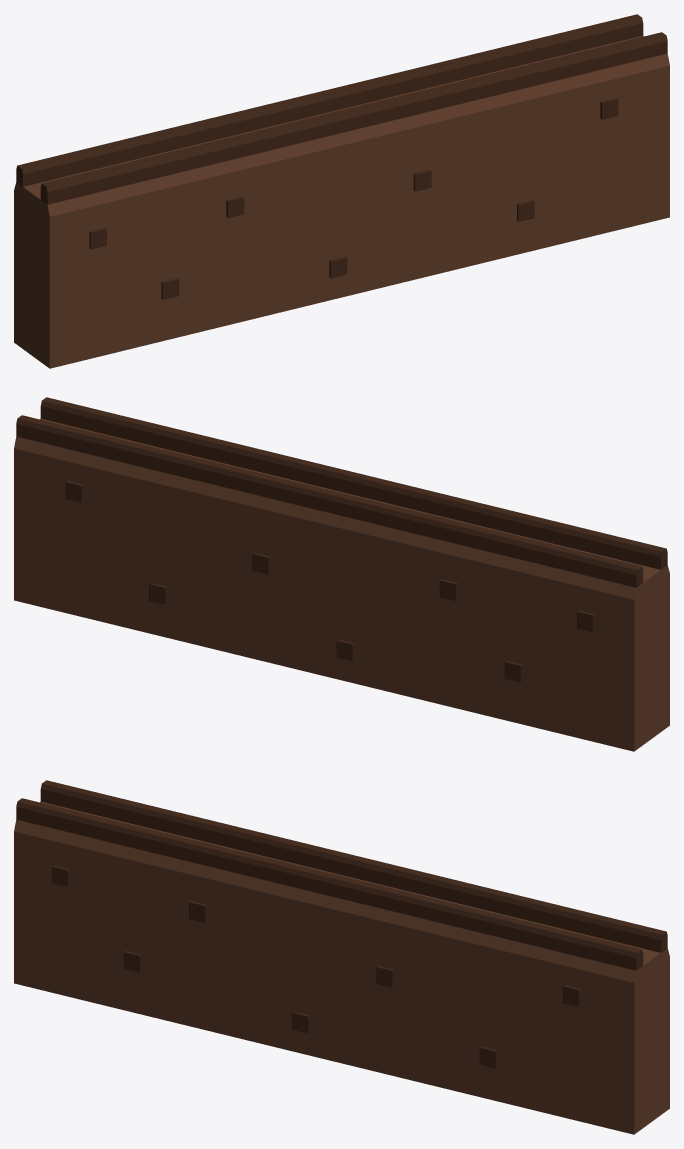
File: wall.gltf
The picture shows the model from 3 angles, top to bottom: view 1: azimuth 30°, elevation 25°; view 2: azimuth 150°, elevation 25°; view 3: azimuth 330°, elevation 25°; orthographic projection.
Parts seen in each view (by area): view 1: Cube; view 2: Cube; view 3: Cube.
Part boxes in pixels (x1,y1,x2,y2): Cube: (14, 14, 669, 368); Cube: (14, 397, 669, 751); Cube: (14, 780, 669, 1134).
Bounding box in the file's own units: 8 × 2.21 × 0.8722.
Materials: 1 (1 with a texture image).
